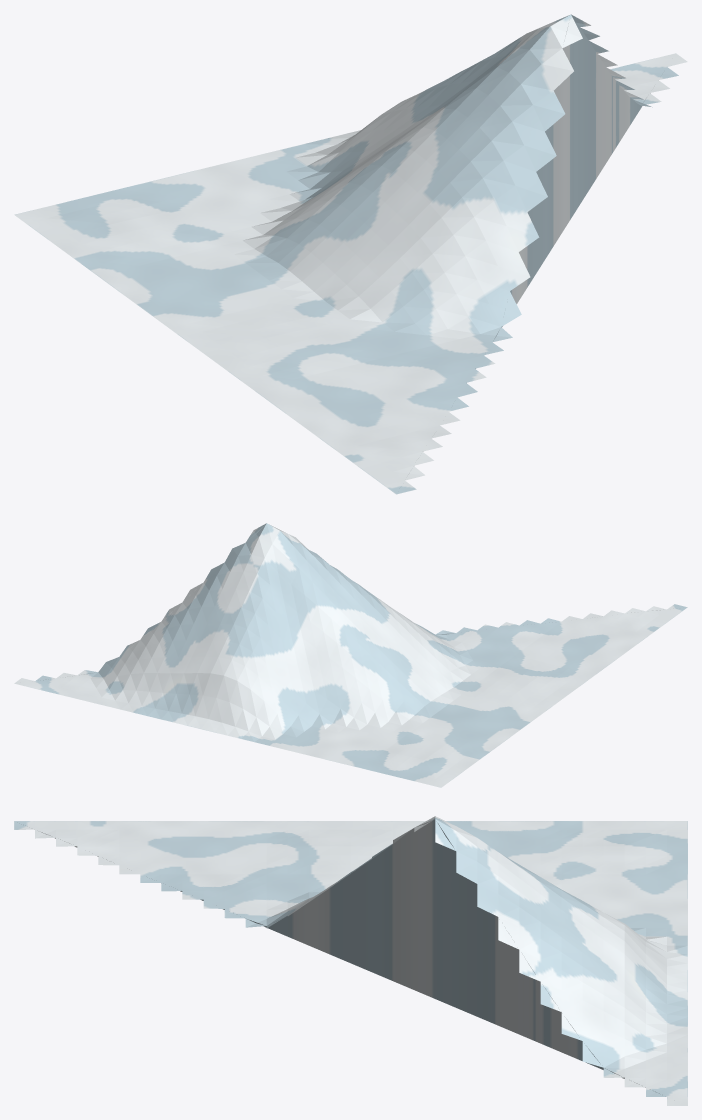
The model's file is Snow_Mountains_09_SW.obj.
3 renders of one model, top to bottom at view 1: azimuth 30°, elevation 25°; view 2: azimuth 150°, elevation 25°; view 3: azimuth 270°, elevation 25°, orthographic. The views are drawn at different scales.
Bounding box in the file's own units: 10 × 2.95 × 10.
1 material, 1 textured.
